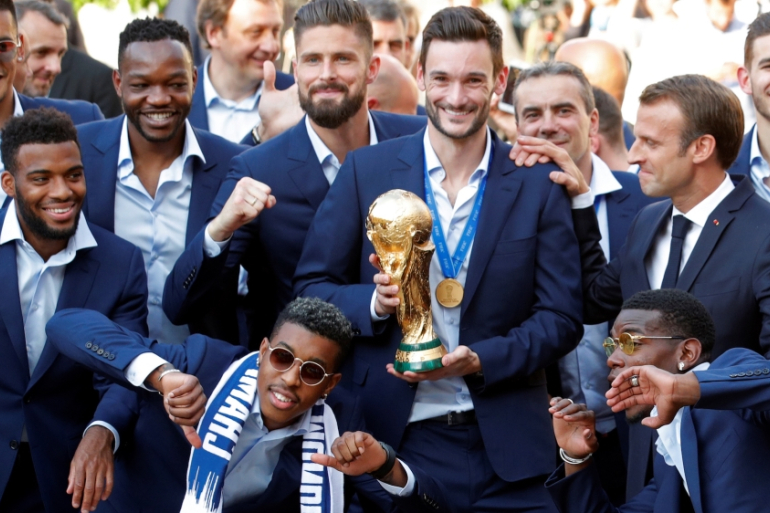without_mask: (262, 328, 328, 417), (296, 37, 366, 115), (20, 153, 87, 234), (628, 112, 689, 199), (123, 58, 191, 136), (516, 91, 592, 160), (427, 51, 489, 133)
